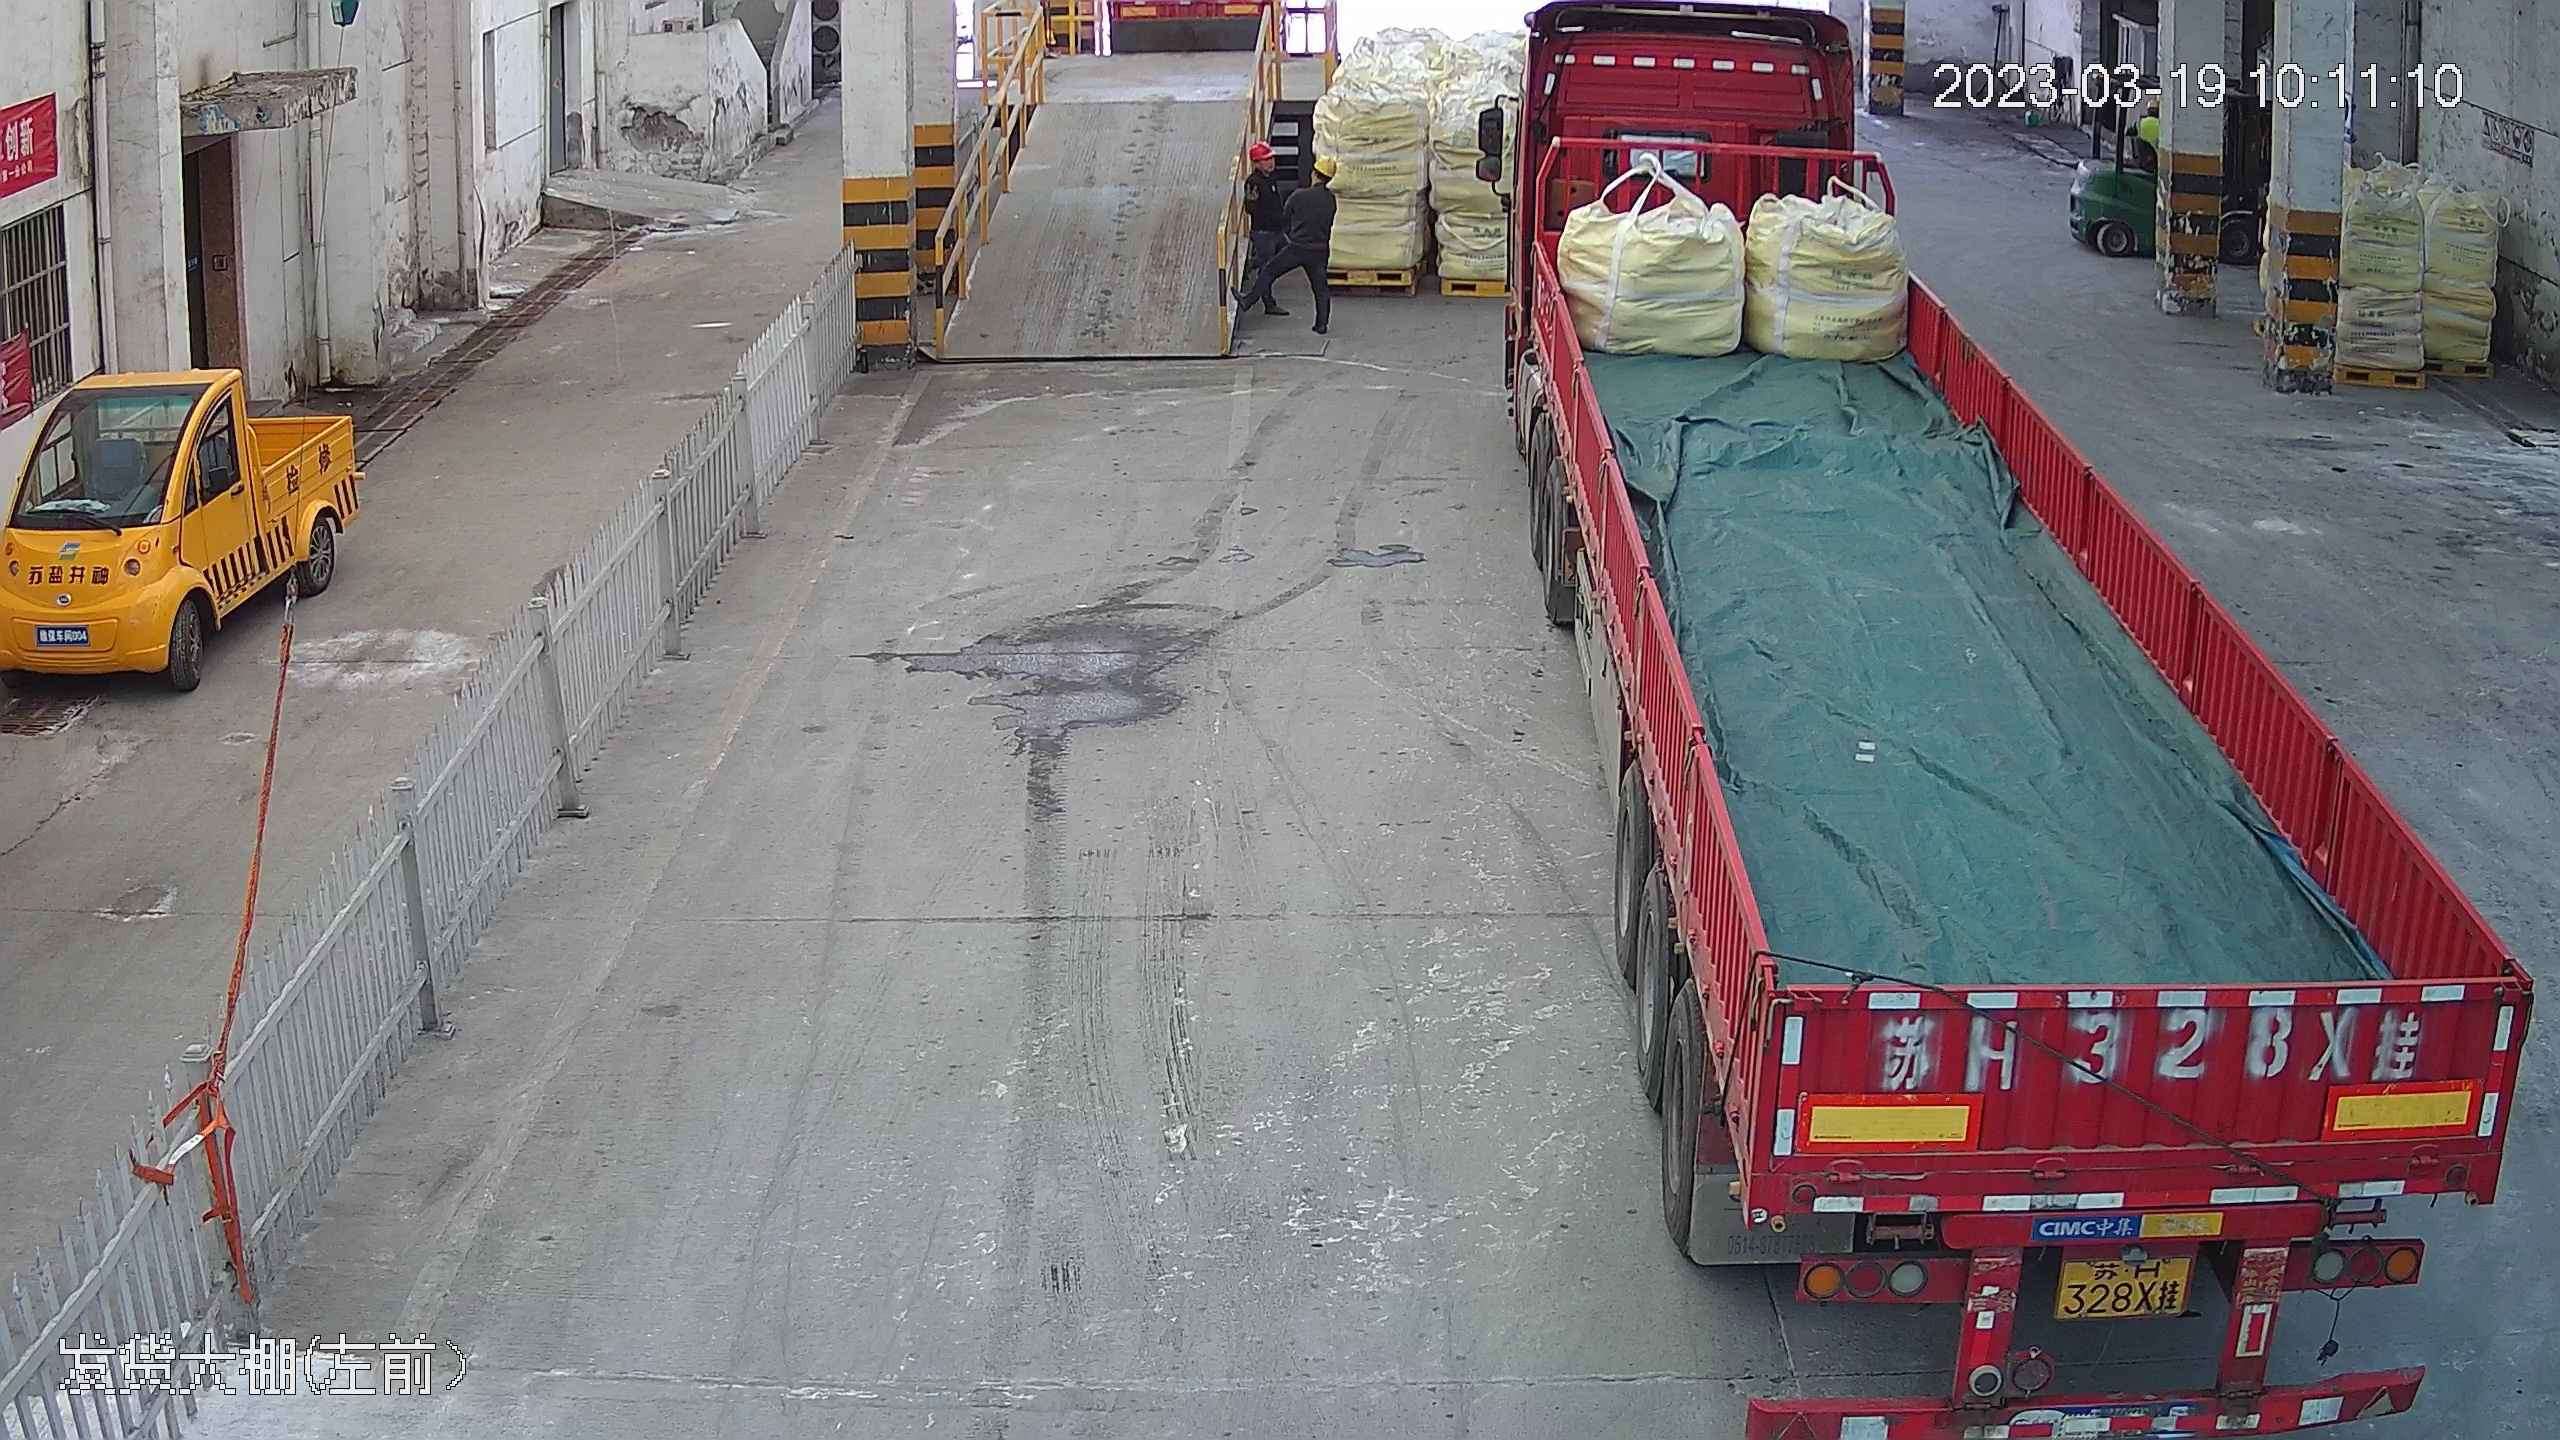head: (1293, 155, 1342, 212), (1240, 142, 1286, 201)
helmet: (1314, 153, 1339, 181), (1245, 142, 1269, 163)
people: (1287, 149, 1341, 339), (1240, 142, 1290, 332)
truck: (1495, 1, 2555, 1427)
